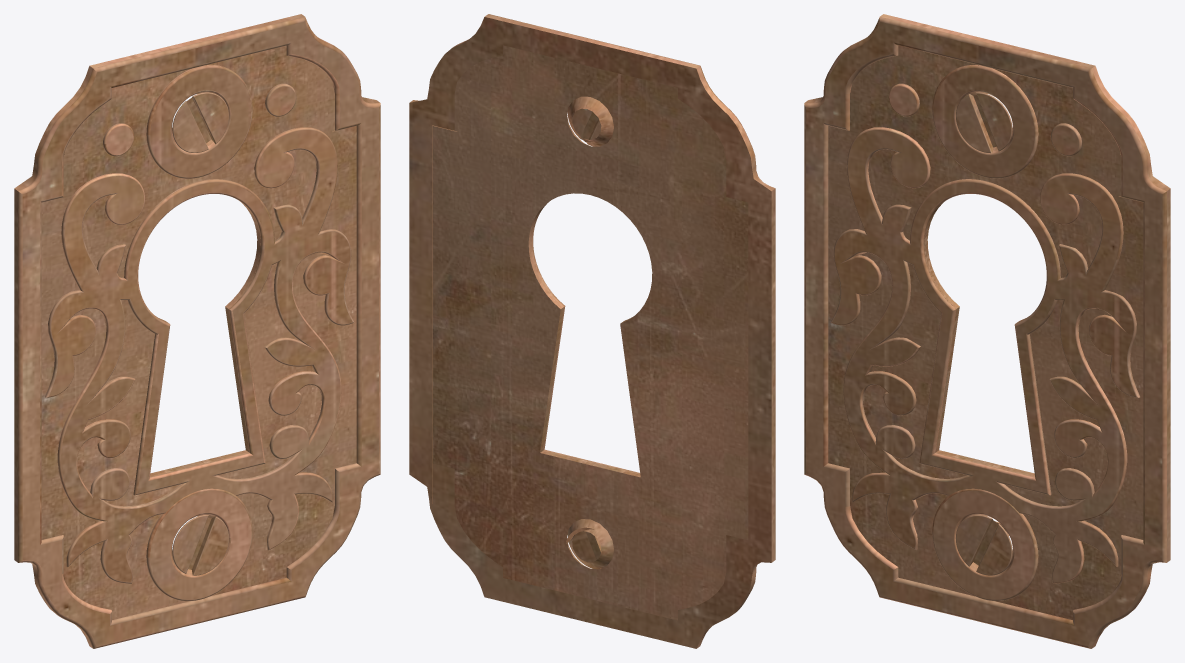
The model's file is Key Hole.fbx.
3 views of the same model, side by side, from view 1: azimuth 30°, elevation 25°; view 2: azimuth 150°, elevation 25°; view 3: azimuth 330°, elevation 25° (orthographic).
Visible parts, largest first — view 1: Object_2; view 2: Object_2; view 3: Object_2.
Part boxes in pixels (box(x1,y1,x2,y2)): Object_2: box(14, 14, 380, 648); Object_2: box(409, 14, 775, 648); Object_2: box(804, 14, 1170, 648).
Size of the model in its own units: 18.54 by 28.37 by 1.16.
2 materials, 2 textured.
